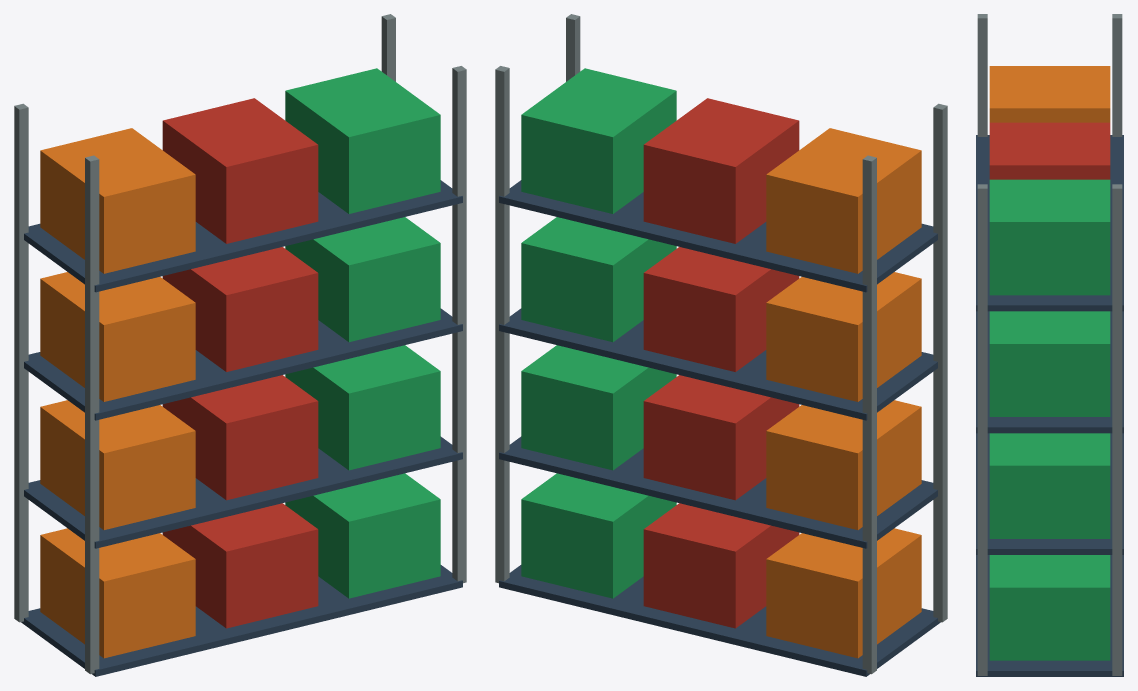
Rendered from warehouse-shelves.glb.
3 views of the same model, side by side, from view 1: azimuth 30°, elevation 25°; view 2: azimuth 150°, elevation 25°; view 3: azimuth 270°, elevation 25° (orthographic). The views are drawn at different scales.
Parts seen in each view (by area): view 1: warehouse-shelves; view 2: warehouse-shelves; view 3: warehouse-shelves.
Part boxes in pixels (x1,y1,x2,y2): warehouse-shelves: (14,14,466,676); warehouse-shelves: (495,14,947,676); warehouse-shelves: (976,14,1123,676).
Bounding box in the file's own units: 6.15 × 8.05 × 2.2.
